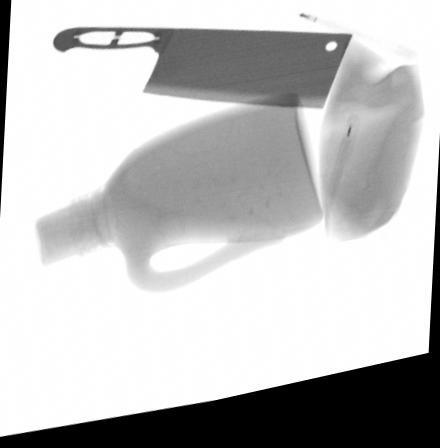Knife: (52, 30, 354, 125)
